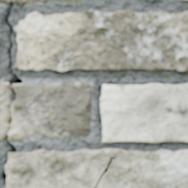brick: (15, 10, 187, 72), (5, 149, 187, 187), (101, 84, 187, 142)
broken_brick: (9, 81, 91, 141), (0, 81, 9, 142), (0, 0, 83, 6)
crack: (0, 2, 22, 185), (92, 155, 117, 187)
